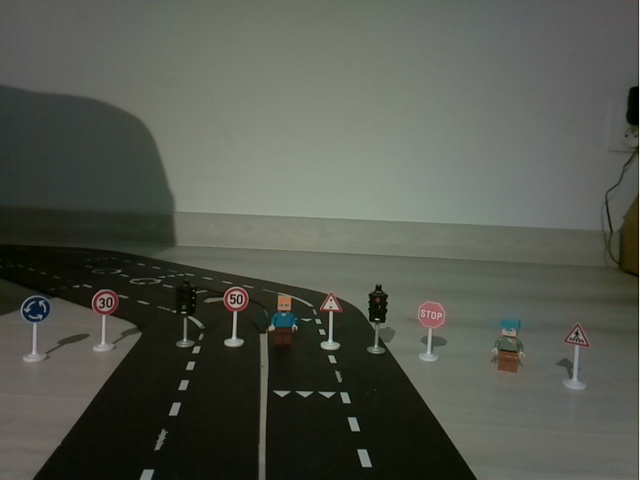green light: (168, 276, 202, 353)
limit 30: (85, 284, 121, 357)
limit 50: (217, 283, 250, 351)
pedestrian sign: (558, 318, 594, 398)
person: (488, 314, 531, 378), (262, 290, 302, 354)
red light: (361, 283, 393, 357)
round: (16, 292, 56, 366)
stop: (411, 295, 449, 367)
traffic light sign: (314, 291, 347, 355)
